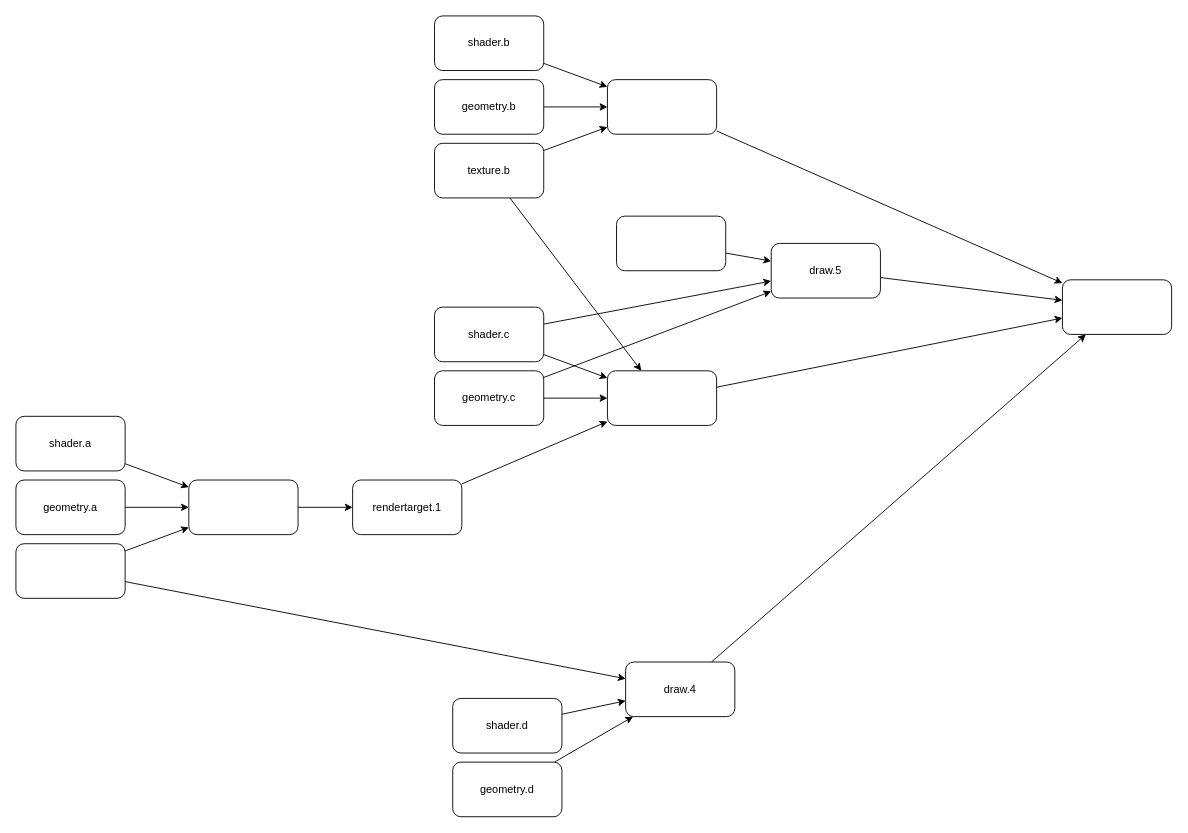
This 1188x833 diagram has some shape labels left out. The shapes that lost their labels are listed below. From the top down, each one's box as (x1, y1, x2, y2) in pixels, then its label:
(607, 79, 717, 134): draw.2
(616, 215, 726, 271): texture.c
(1062, 279, 1172, 334): canvas
(607, 370, 717, 425): draw.3
(188, 479, 298, 535): draw.1
(15, 543, 125, 598): texture.a
